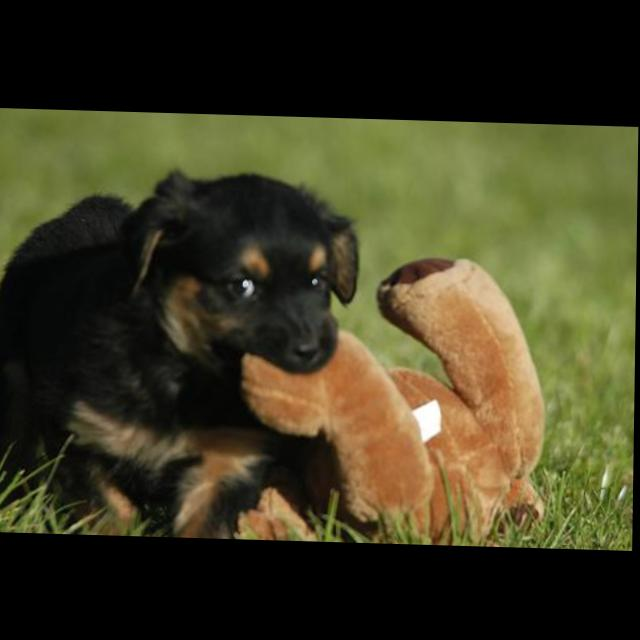rottweiler: (1, 163, 365, 542)
